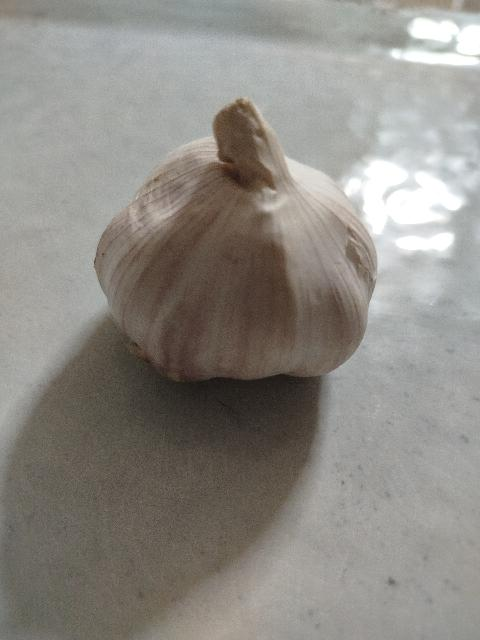garlic: (93, 96, 378, 384)
